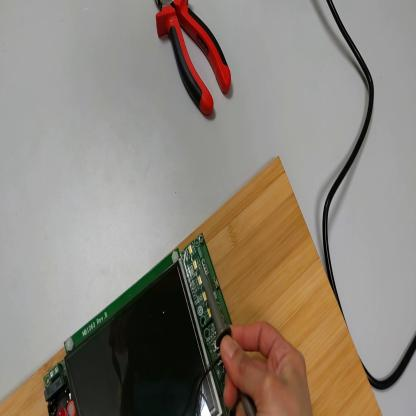hand: (222, 318, 313, 416)
low voltage board: (44, 236, 233, 414)
oscilloscope probe tip: (200, 268, 258, 415)
pliers: (154, 2, 233, 119)
working area: (2, 158, 382, 416)
